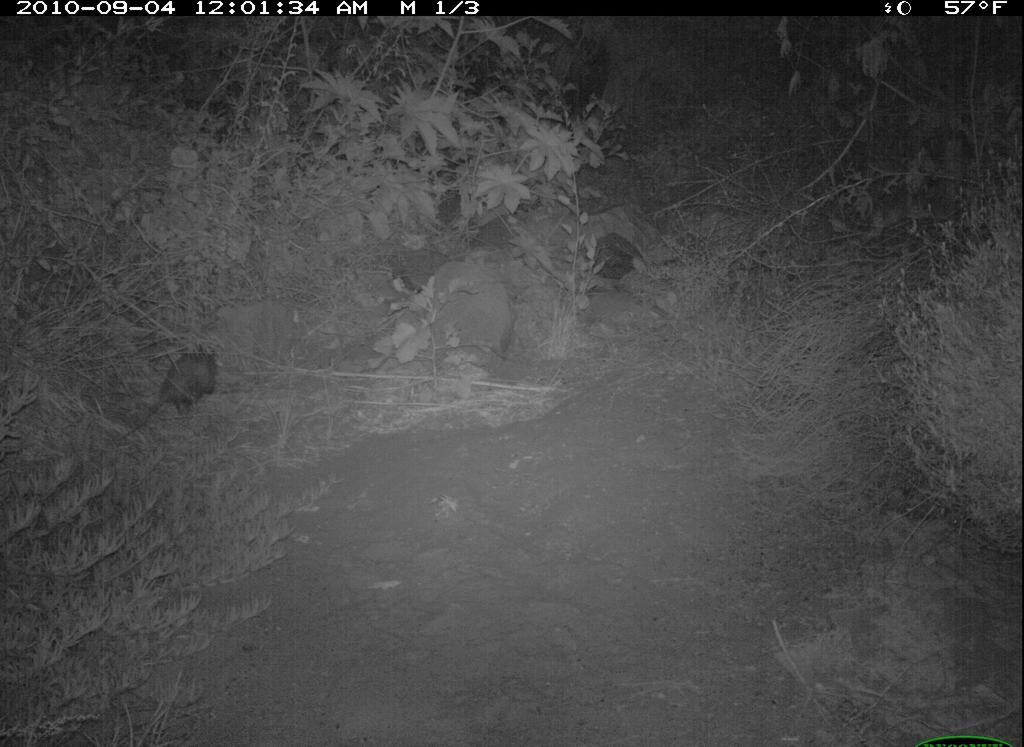opossum: (120, 342, 220, 442)
